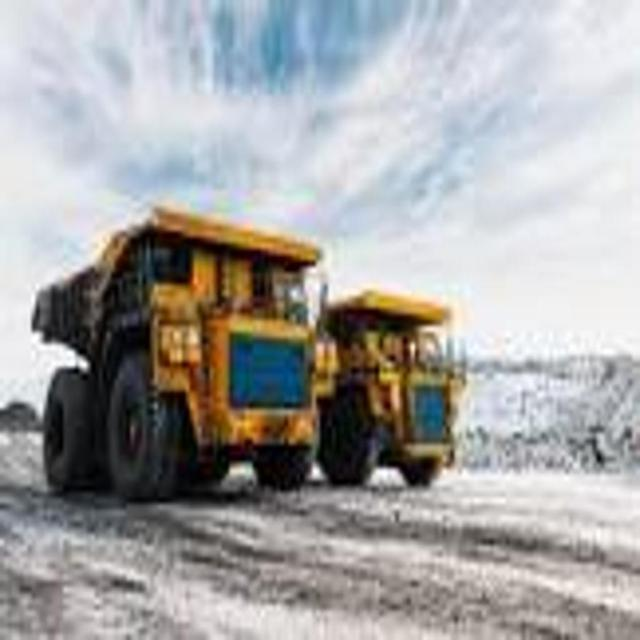dump_truck: (31, 198, 335, 520), (318, 270, 460, 496)
